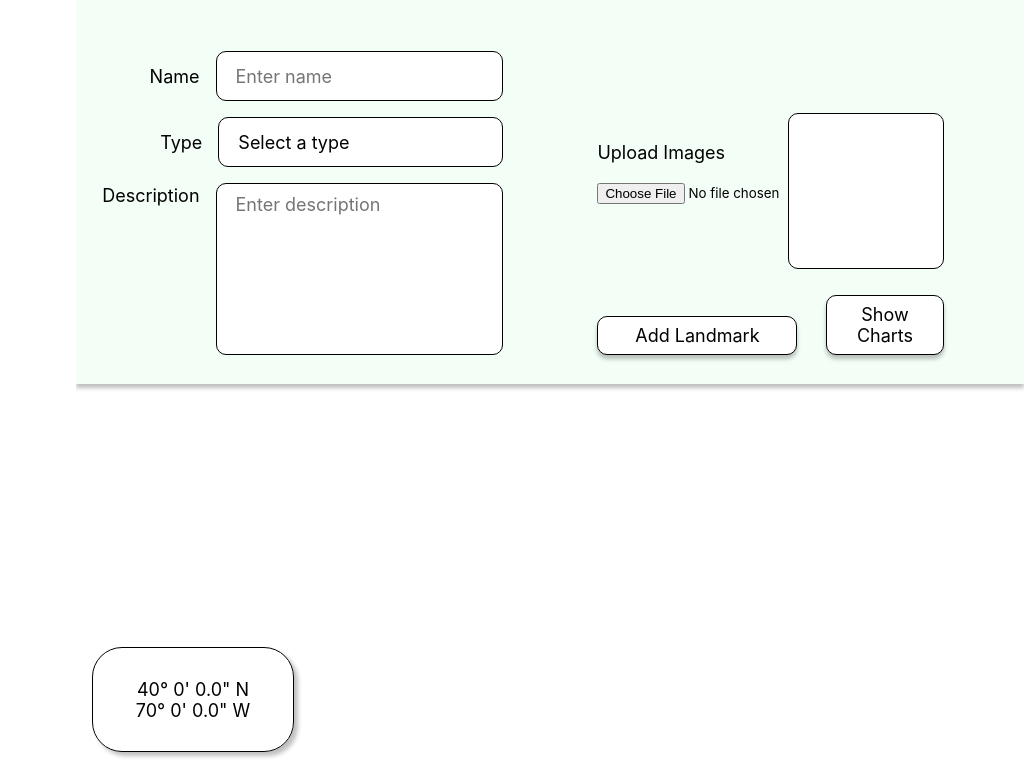
Test: AddScreen CRUD operations › should not add landmark when validation fails
This screenshot has width=1024, height=768.
What coordinates should you click on to do the following:
click the button "Add Landmark"
I would click on:
 (697, 336)
Its box is x1=597 y1=316 x2=797 y2=355.
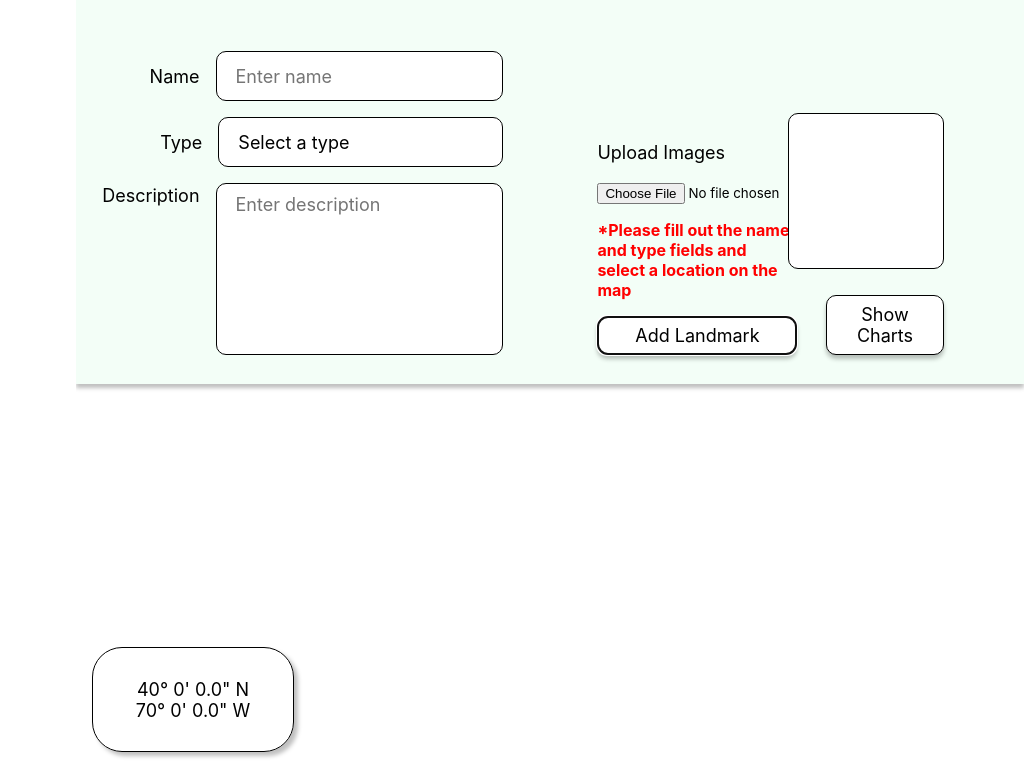
Check: the text "*Please fill out the name and type fields and select a location on the map" is shown, box x1=597 y1=220 x2=797 y2=300
